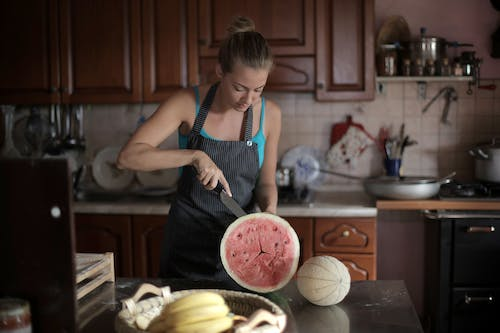knife: (212, 184, 248, 219)
